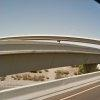Bridge: (2, 29, 96, 76)
